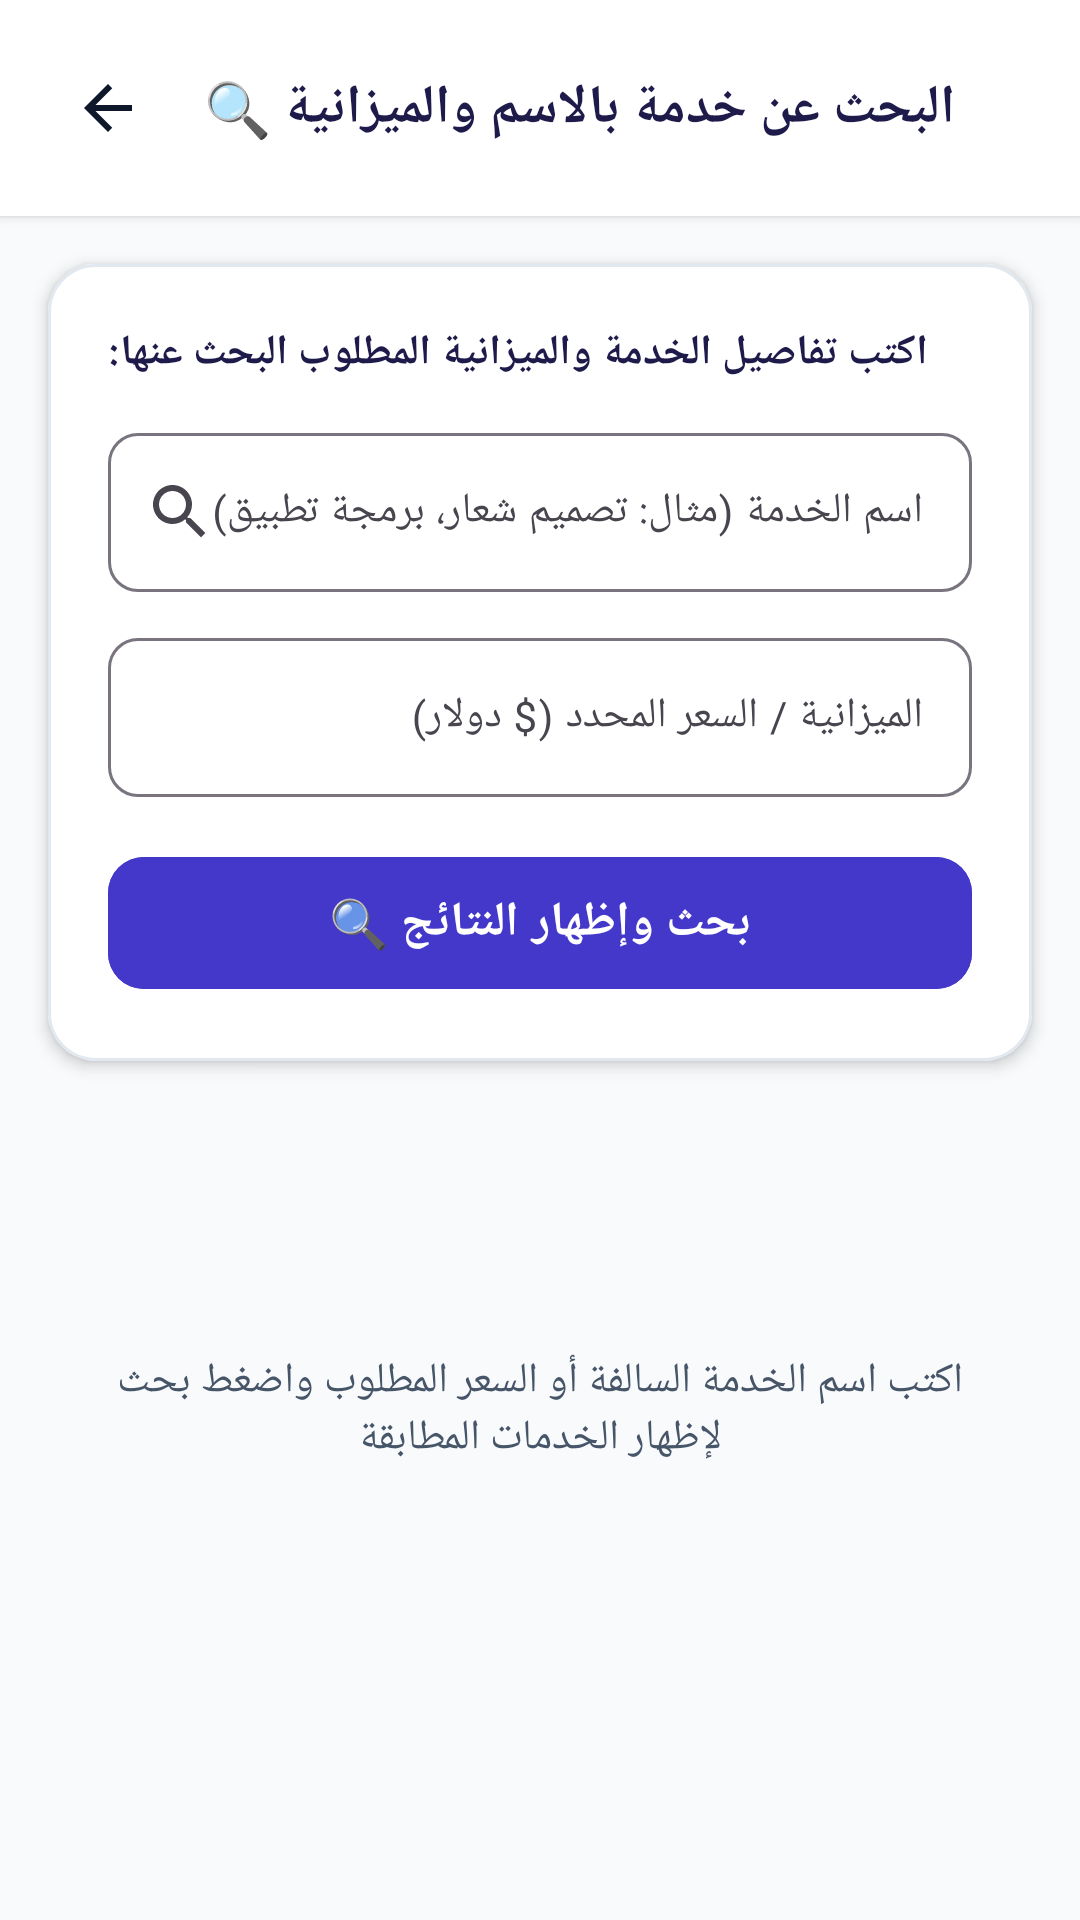

Point at icon controls on the screen. Image size 1080×1920, points as [x,y].
رجوع: [108,108]
